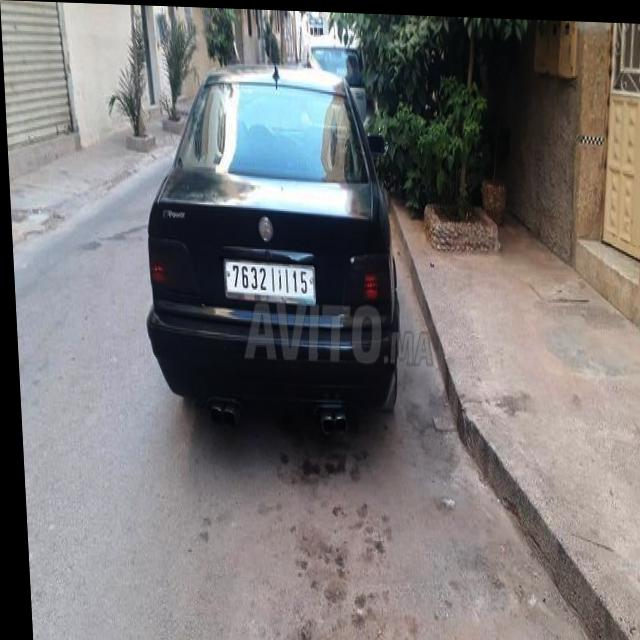License-Plate: (223, 261, 311, 297)
